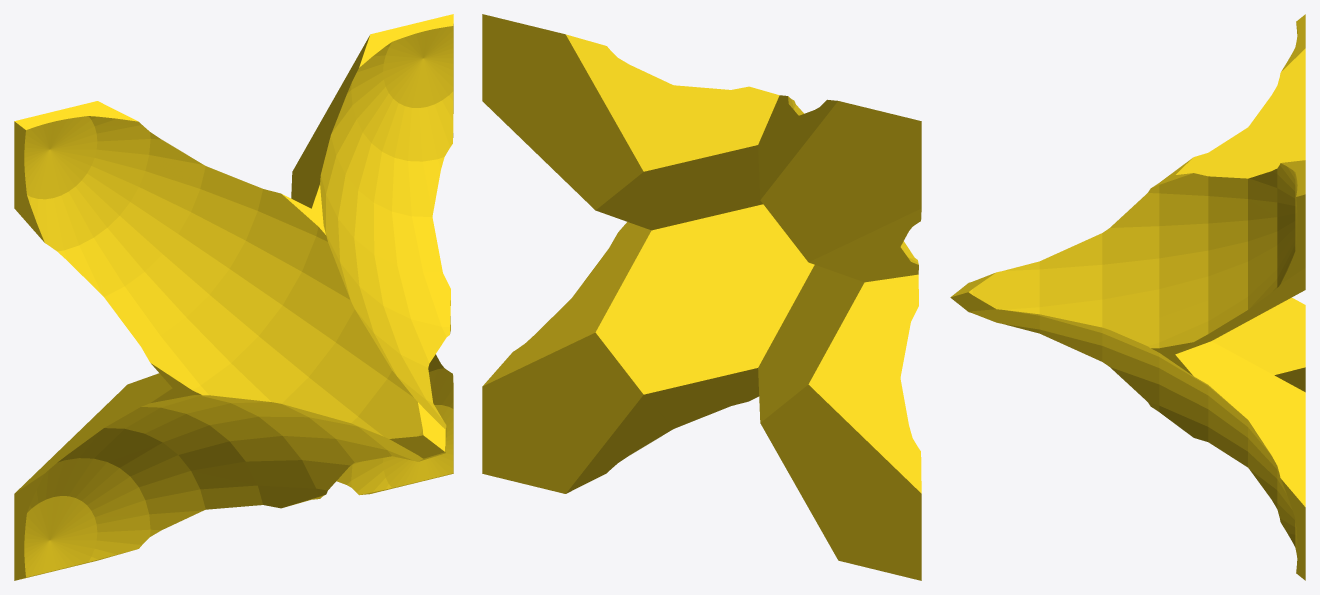
File: BananaPeel.obj
The picture shows the model from 3 angles, left to right: view 1: azimuth 30°, elevation 25°; view 2: azimuth 150°, elevation 25°; view 3: azimuth 270°, elevation 25°; orthographic projection. The views are drawn at different scales.
Parts seen in each view (by area): view 1: obj_0; view 2: obj_0; view 3: obj_0.
Part boxes in pixels (left/top/right/bottom): obj_0: left=14, top=14, right=453, bottom=580; obj_0: left=482, top=14, right=921, bottom=580; obj_0: left=950, top=14, right=1305, bottom=580.
Bounding box in the file's own units: 30 × 30 × 25.
